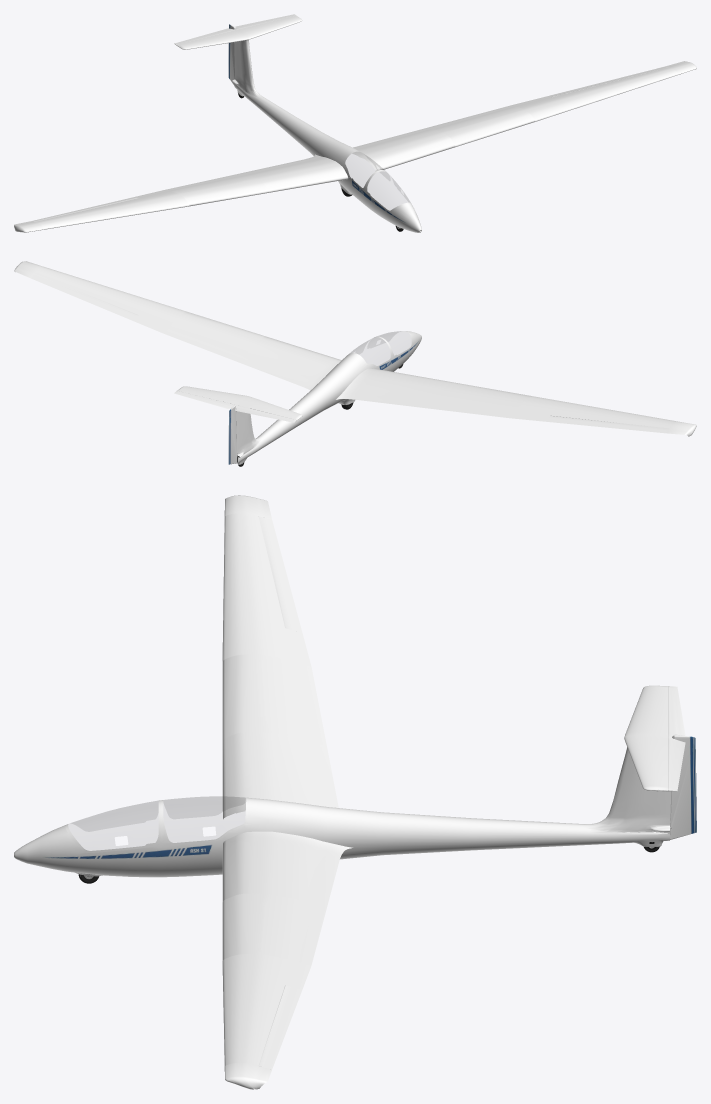
The model's file is custom2.gltf.
3 renders of one model, top to bottom at view 1: azimuth 30°, elevation 25°; view 2: azimuth 150°, elevation 25°; view 3: azimuth 270°, elevation 25°, orthographic. The views are drawn at different scales.
Visible parts, largest first — view 1: Exterior, XLive_2; view 2: Exterior, XLive_0, XLive_1, XLive_2, XLive_3; view 3: Exterior, XLive_3, XLive_1, XLive_2, XLive_0.
Boxes of the visible parts, <box> form: Exterior: <box>14,15,696,232</box>; XLive_2: <box>174,14,296,44</box>; Exterior: <box>14,261,696,466</box>; XLive_0: <box>31,274,138,320</box>; XLive_1: <box>546,416,668,433</box>; XLive_2: <box>174,391,296,422</box>; XLive_3: <box>228,405,237,464</box>; Exterior: <box>14,495,671,1089</box>; XLive_3: <box>670,734,696,839</box>; XLive_1: <box>258,516,302,632</box>; XLive_2: <box>668,686,685,791</box>; XLive_0: <box>258,985,302,1069</box>.
Bounding box in the file's own units: 16.92 × 2.06 × 8.34.
4 materials, 3 textured.
